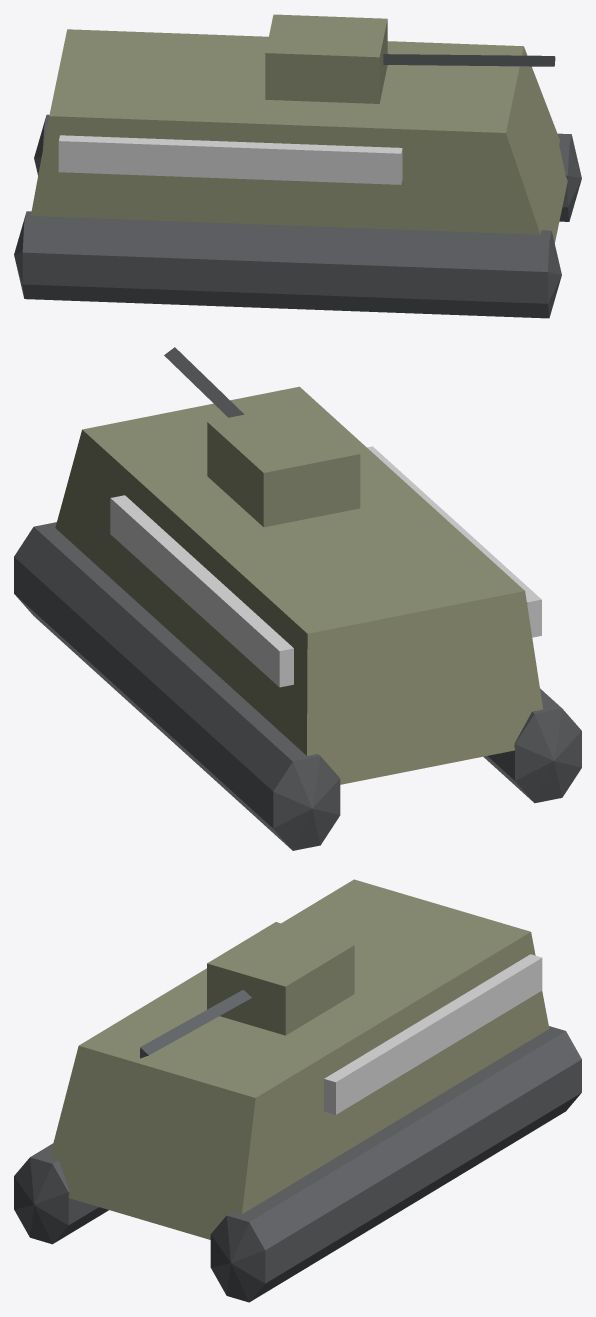
The model's file is mechanized-infantry.glb.
3 renders of one model, top to bottom at view 1: azimuth 30°, elevation 25°; view 2: azimuth 150°, elevation 25°; view 3: azimuth 270°, elevation 25°, orthographic. The views are drawn at different scales.
Visible parts, largest first — view 1: LOD0; view 2: LOD0; view 3: LOD0.
Part boxes in pixels (left/top/right/bottom): LOD0: left=14, top=14, right=581, bottom=318; LOD0: left=14, top=347, right=581, bottom=850; LOD0: left=14, top=879, right=581, bottom=1302.
Size of what is drawn, in the model's own units: 1.05 by 0.4239 by 0.9462.
